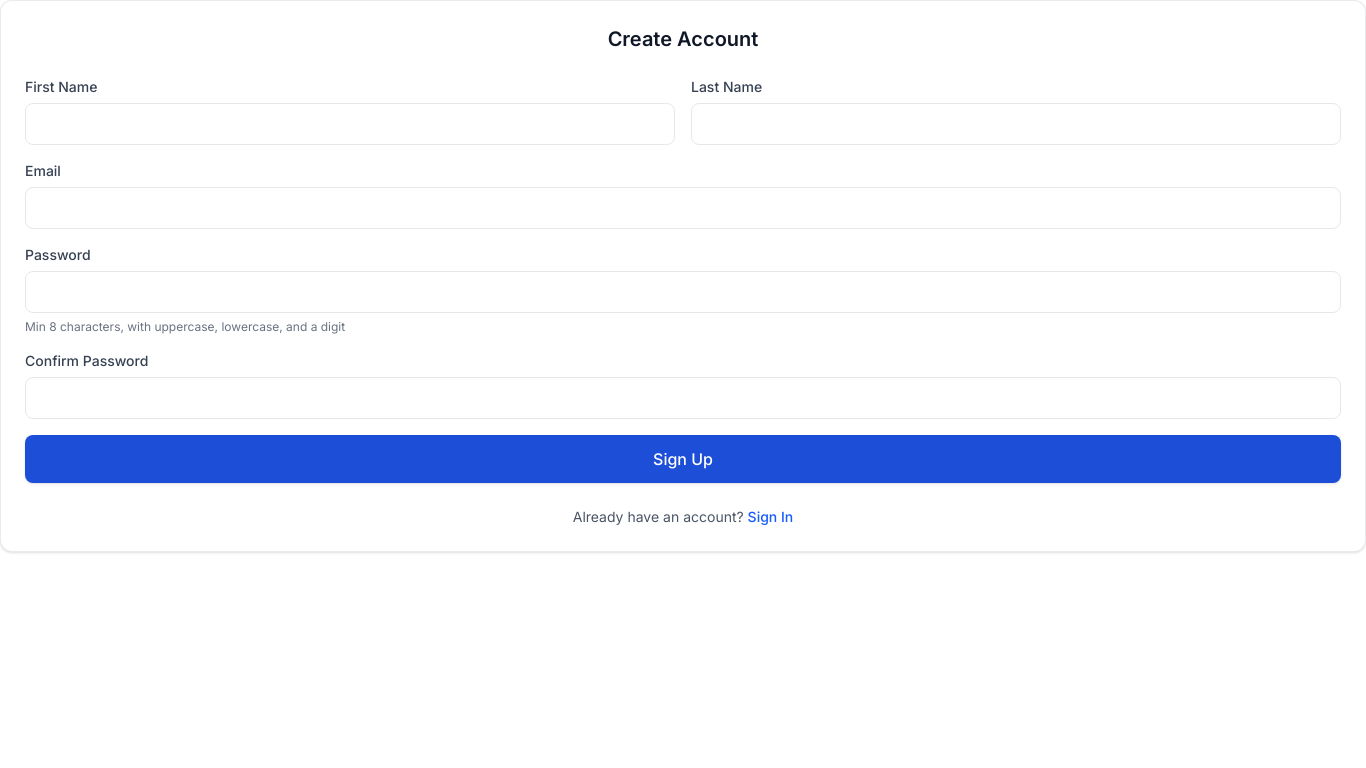
Test: RegisterPage › validates required fields
Click the button "Sign Up".
click(683, 459)  # box [25,435,1341,483]
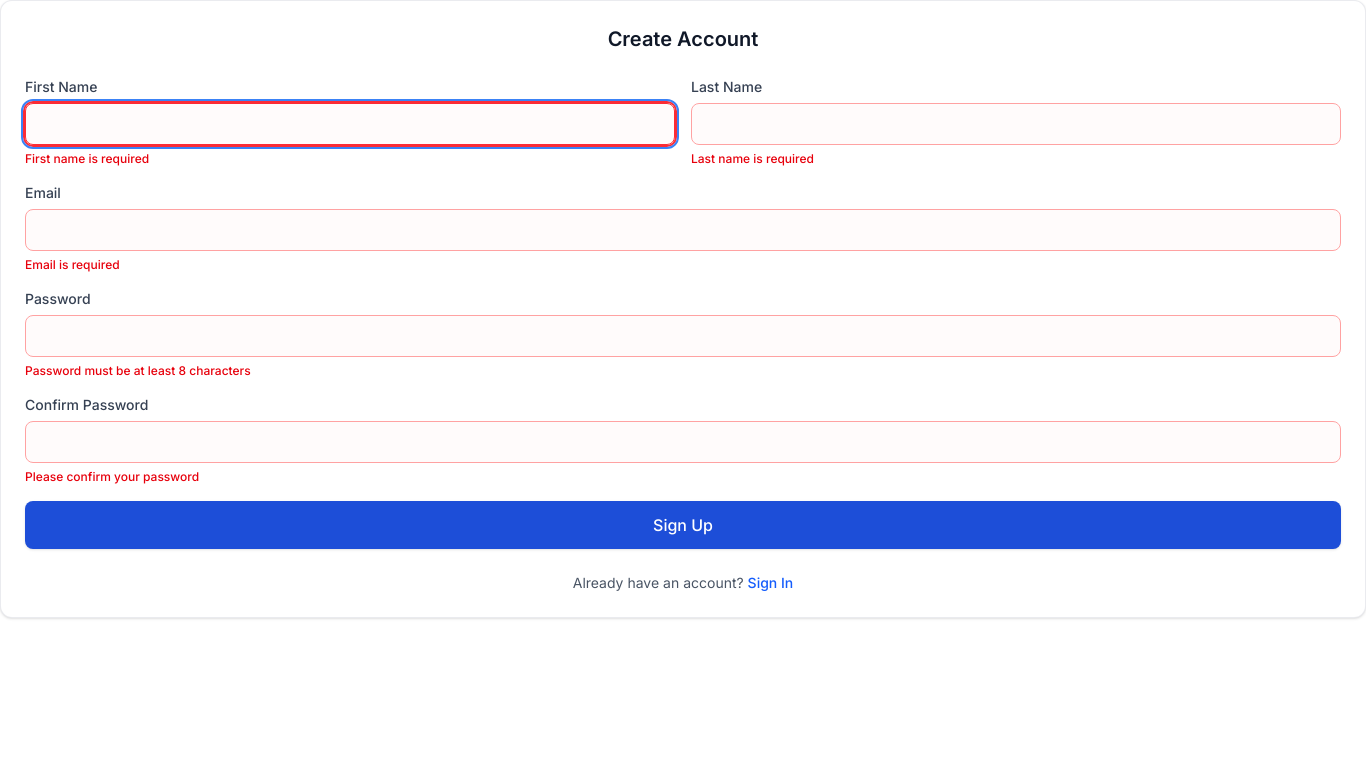
Check: the text "First name is required" is shown, box [25,151,149,166]
Check: the text "Last name is required" is shown, box [691,151,814,166]
Check: the text "Email is required" is shown, box [25,257,120,272]
